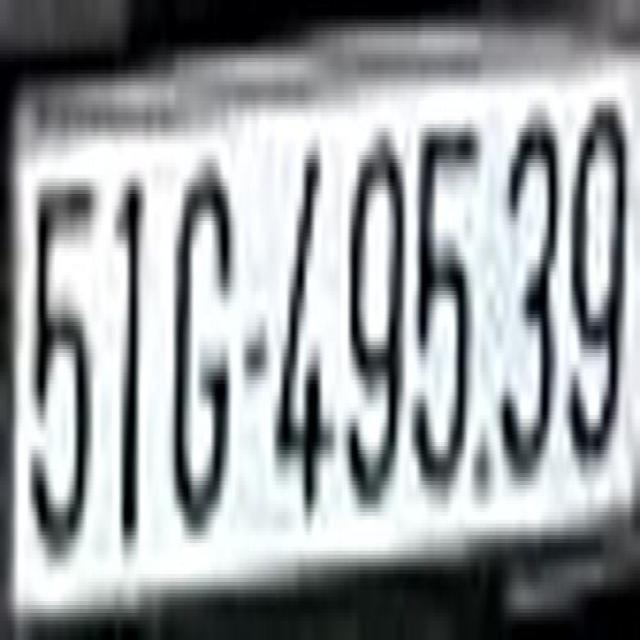1: (114, 163, 142, 547)
3: (503, 120, 555, 477)
4: (276, 132, 330, 516)
5: (31, 166, 93, 558), (416, 116, 469, 492)
9: (346, 128, 398, 512), (572, 108, 624, 466)
G: (174, 151, 230, 512)
